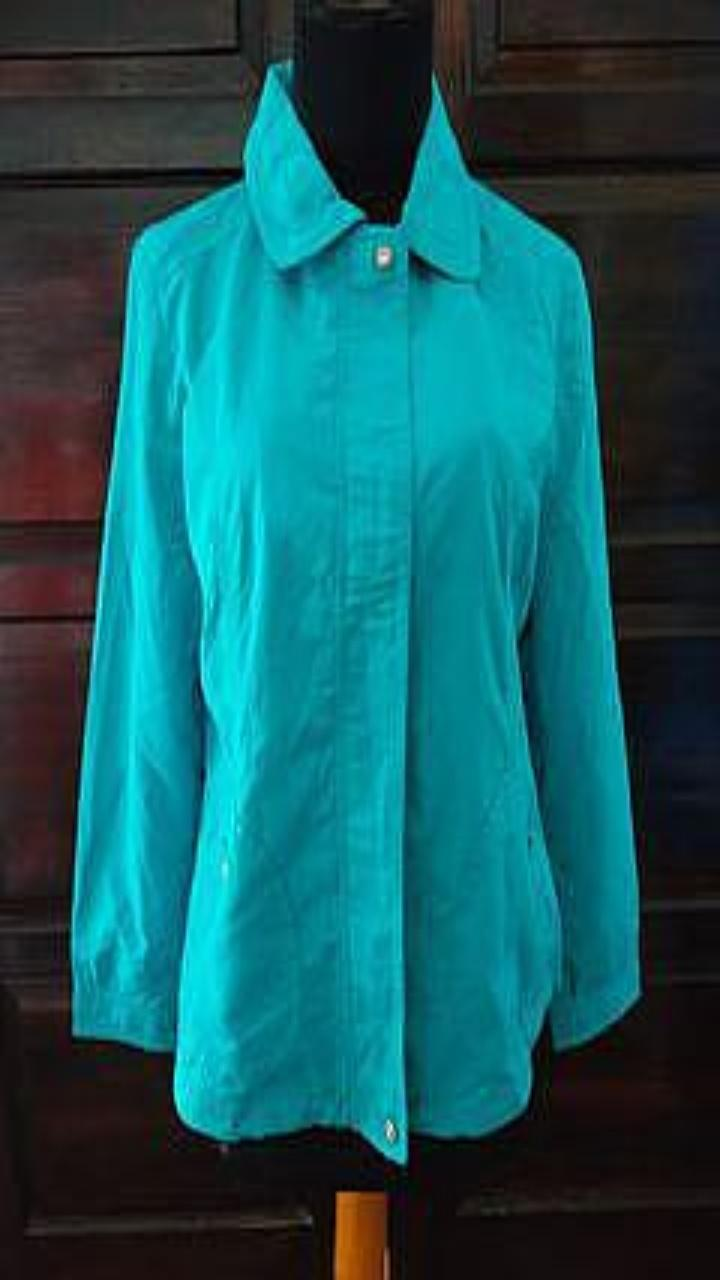Coat: (71, 59, 639, 1163)
